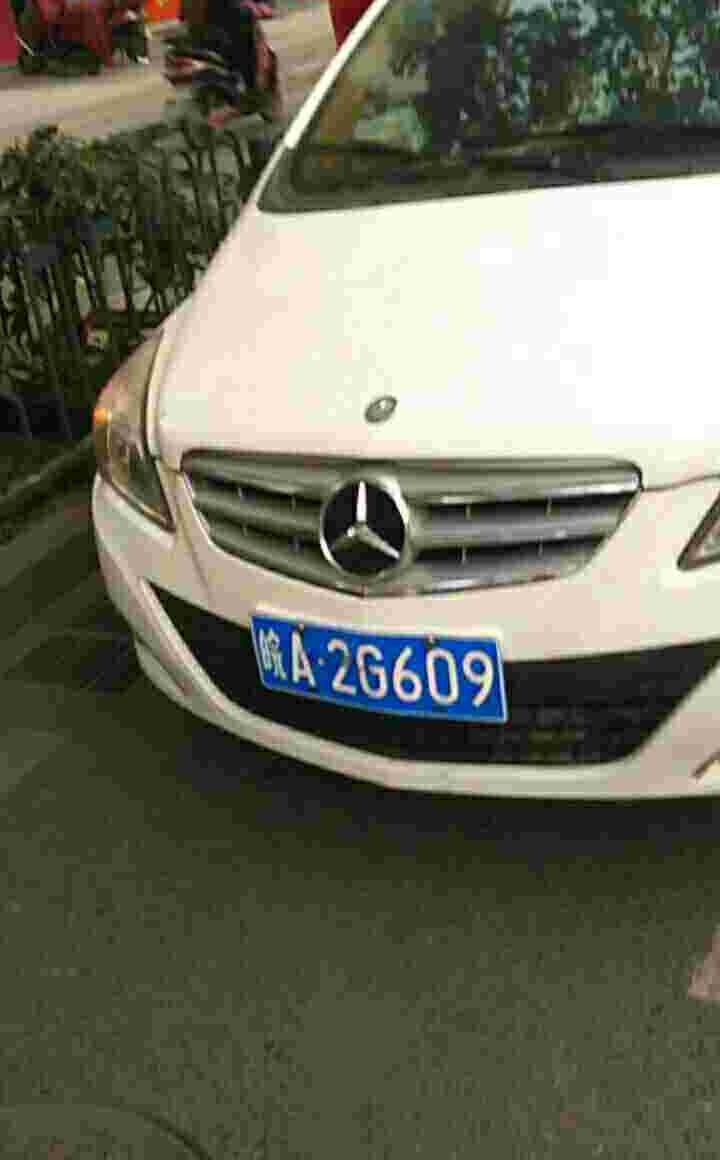license_plate: (255, 616, 501, 728)
